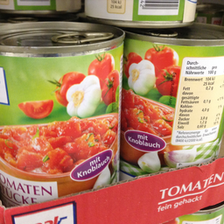tomato_sauce: (1, 19, 123, 205), (124, 26, 221, 175)
